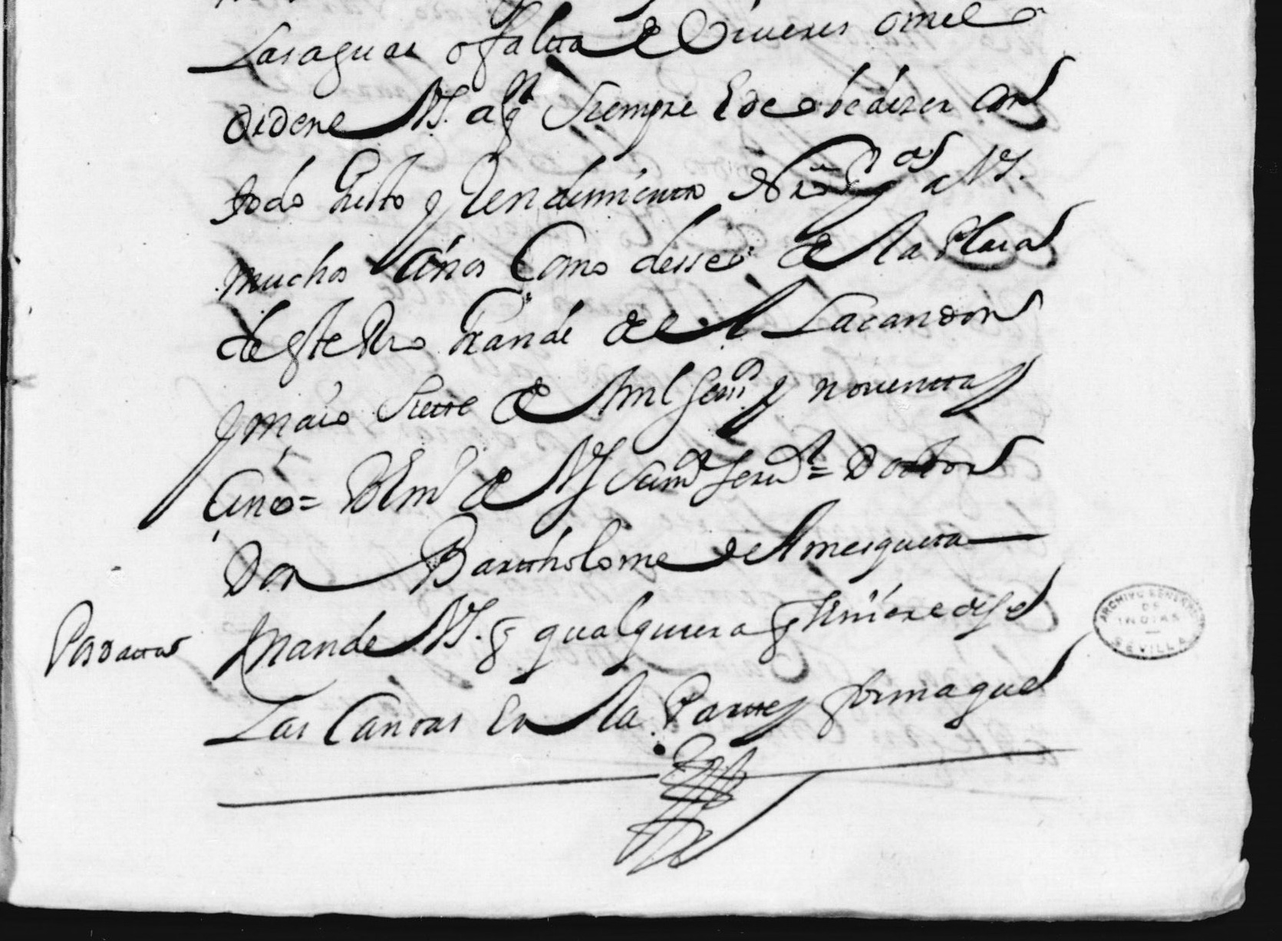lacandon: (760, 288, 1043, 338)
